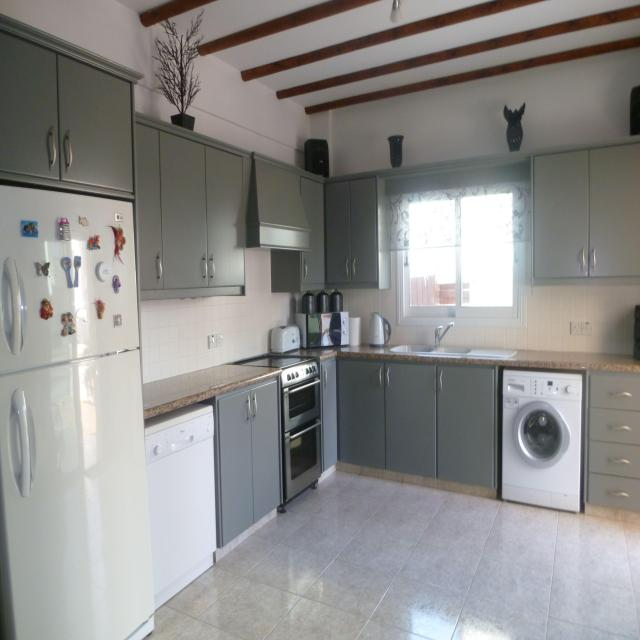dishwasher: (274, 368, 329, 512)
